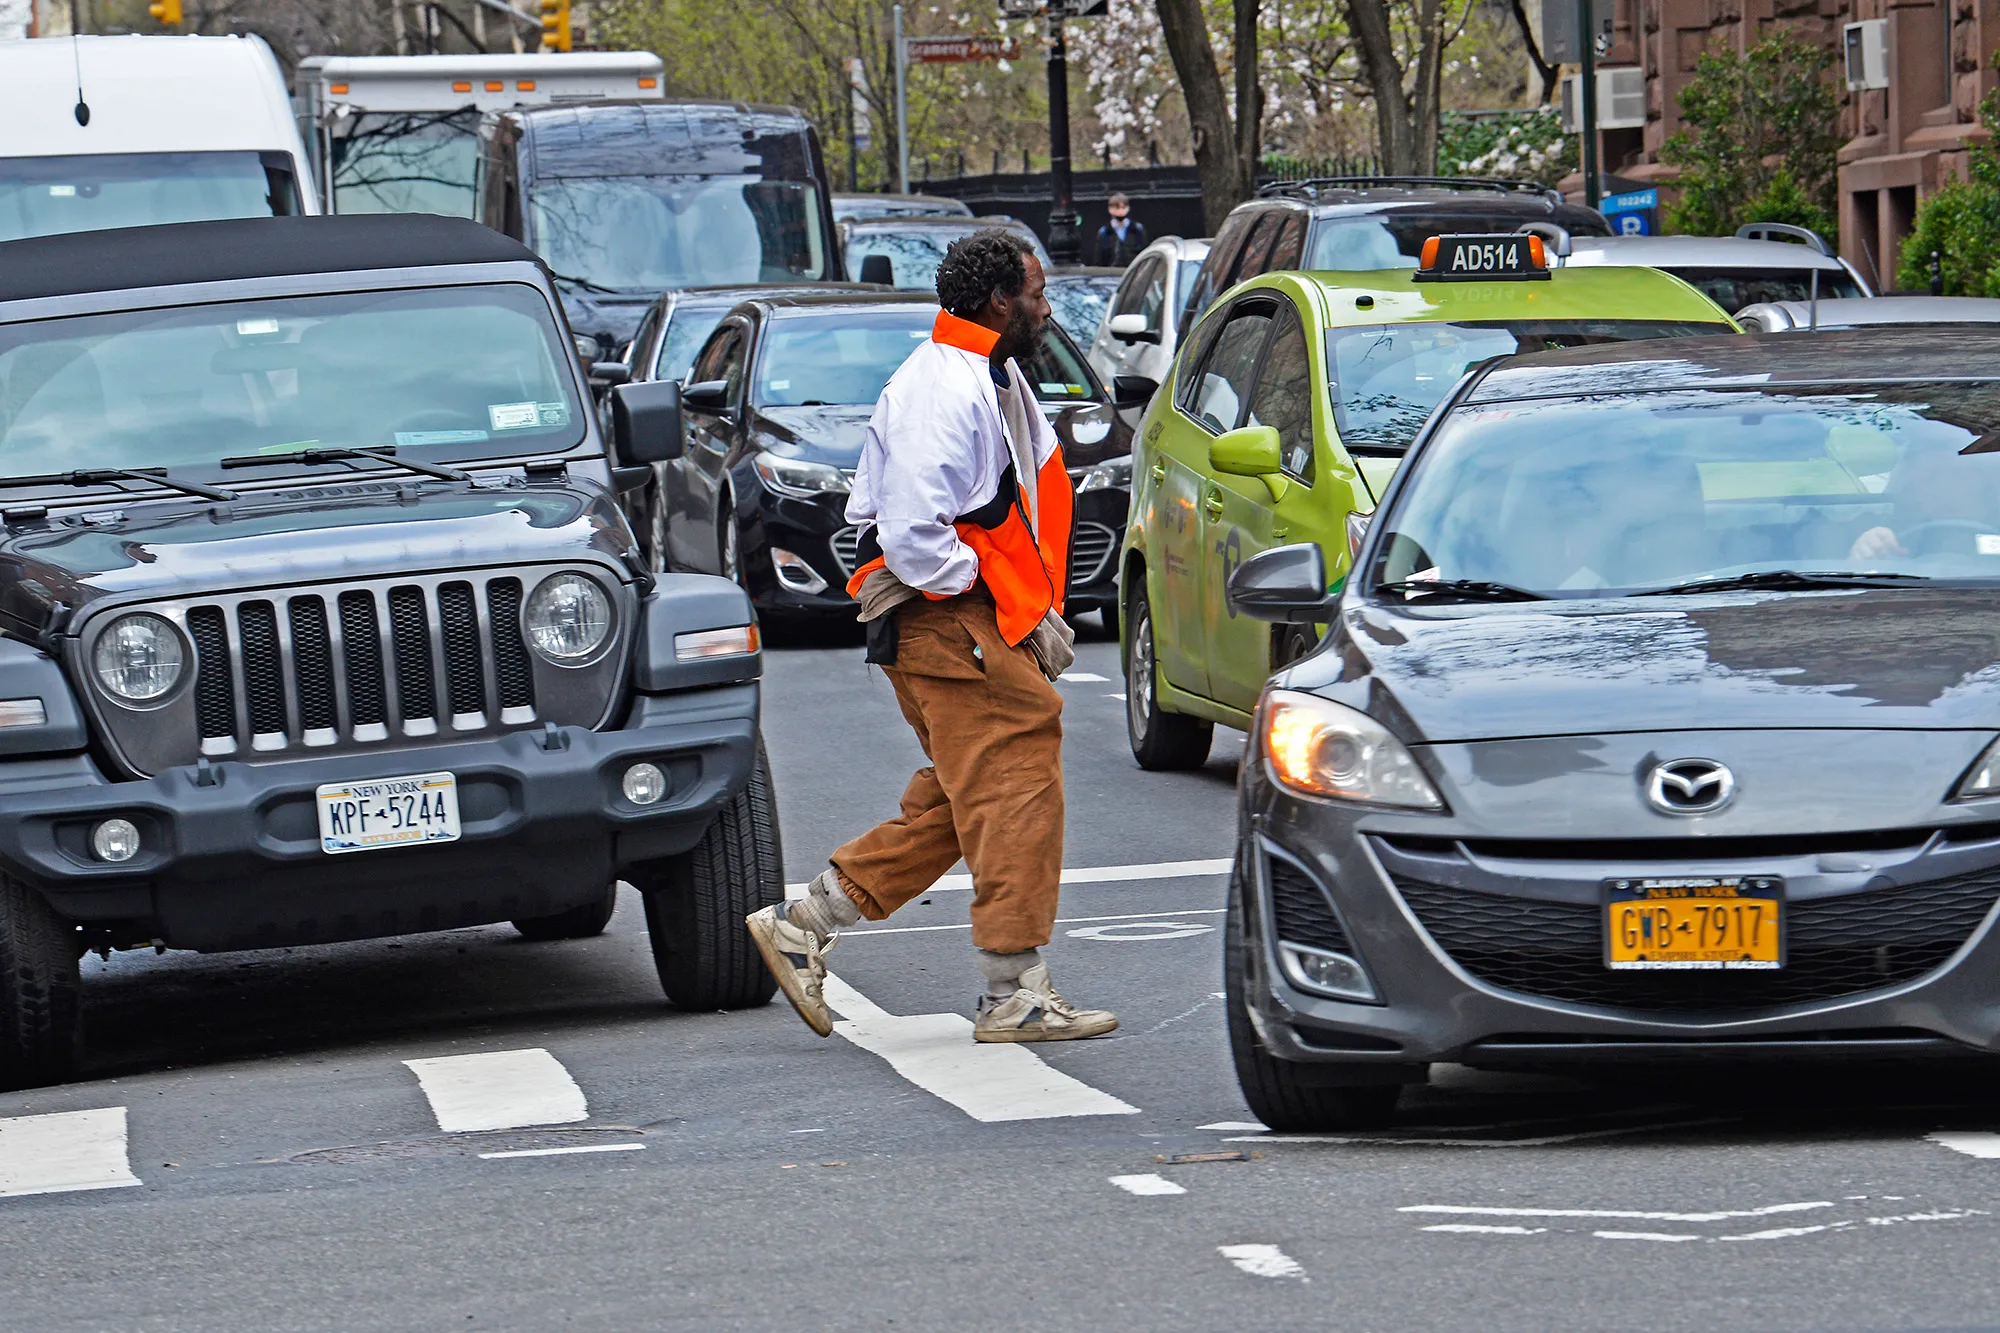car: (1, 201, 784, 1081), (1211, 322, 2000, 1141), (1123, 226, 1774, 764)
person: (736, 228, 1121, 1058)
